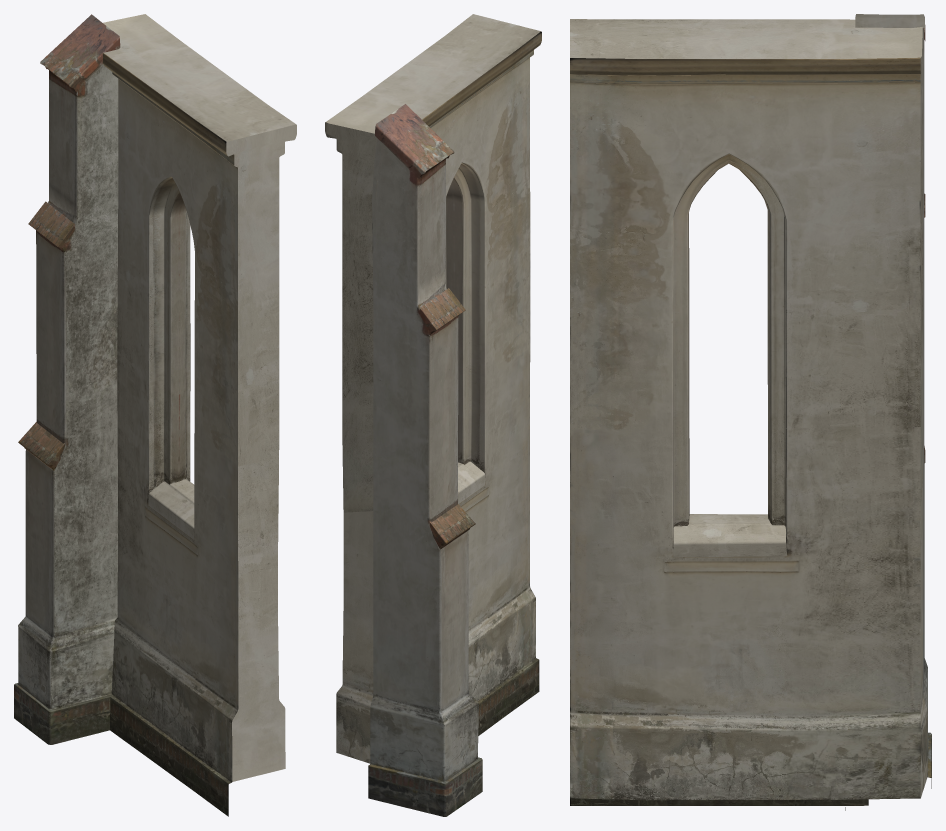
The model's file is sm_Church_01_21.fbx.
The picture shows the model from 3 angles, left to right: view 1: azimuth 30°, elevation 25°; view 2: azimuth 150°, elevation 25°; view 3: azimuth 270°, elevation 25°; orthographic projection. The views are drawn at different scales.
Parts seen in each view (by area): view 1: sm_Church_01_21_LOD0; view 2: sm_Church_01_21_LOD0; view 3: sm_Church_01_21_LOD0.
Boxes of the visible parts, <box> form: sm_Church_01_21_LOD0: <box>14,14,296,816</box>; sm_Church_01_21_LOD0: <box>325,14,541,816</box>; sm_Church_01_21_LOD0: <box>570,14,931,810</box>.
Size of the model in its own units: 159 by 330 by 805.
